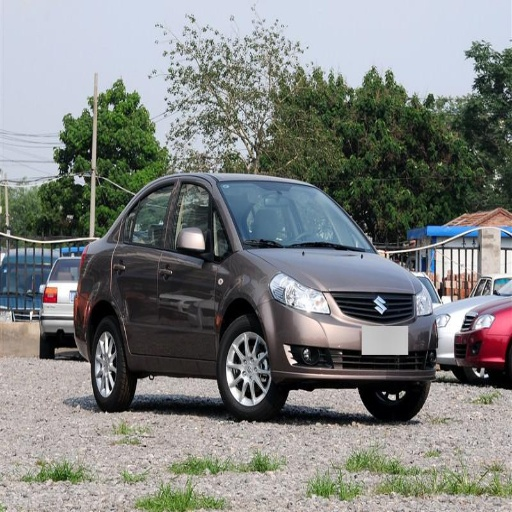back_right_door: (113, 177, 177, 360)
front_bumper: (269, 291, 449, 379)
front_right_door: (159, 177, 231, 360)
front_right_light: (271, 274, 329, 315)
